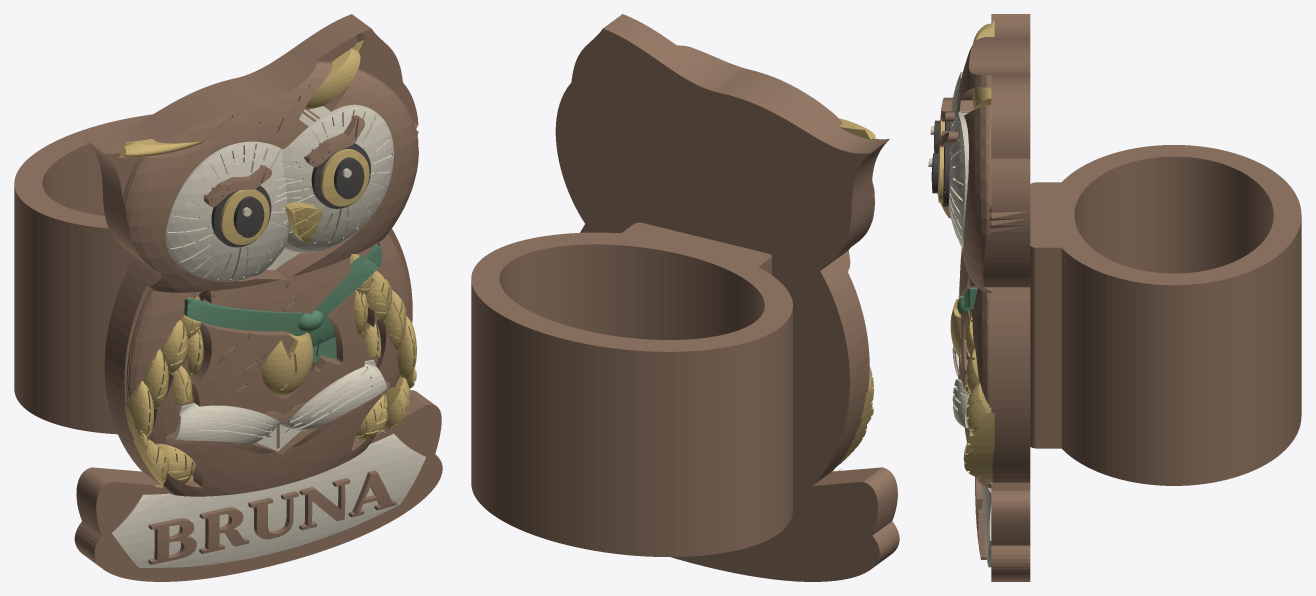
File: anilha-coruja-bruna-v2-montada.glb
The picture shows the model from 3 angles, left to right: view 1: azimuth 30°, elevation 25°; view 2: azimuth 150°, elevation 25°; view 3: azimuth 270°, elevation 25°; orthographic projection. The views are drawn at different scales.
Visible parts, largest first — view 1: castanho, creme, anilha-castanha, dourado, lenco-verde, preto; view 2: anilha-castanha, castanho, dourado; view 3: anilha-castanha, castanho, dourado, creme, preto.
Part boxes in pixels (x1,y1,x2,y2): castanho: [74, 14, 442, 581]; creme: [112, 104, 425, 567]; anilha-castanha: [14, 114, 152, 434]; dourado: [119, 40, 416, 487]; lenco-verde: [184, 244, 381, 363]; preto: [211, 143, 370, 247]; anilha-castanha: [471, 222, 792, 556]; castanho: [555, 14, 899, 581]; dourado: [832, 118, 875, 471]; anilha-castanha: [1030, 145, 1301, 485]; castanho: [940, 14, 1030, 581]; dourado: [937, 21, 994, 483]; creme: [928, 72, 991, 567]; preto: [931, 120, 950, 206].
Bounding box in the file's own units: 35.49 × 50 × 33.69.
